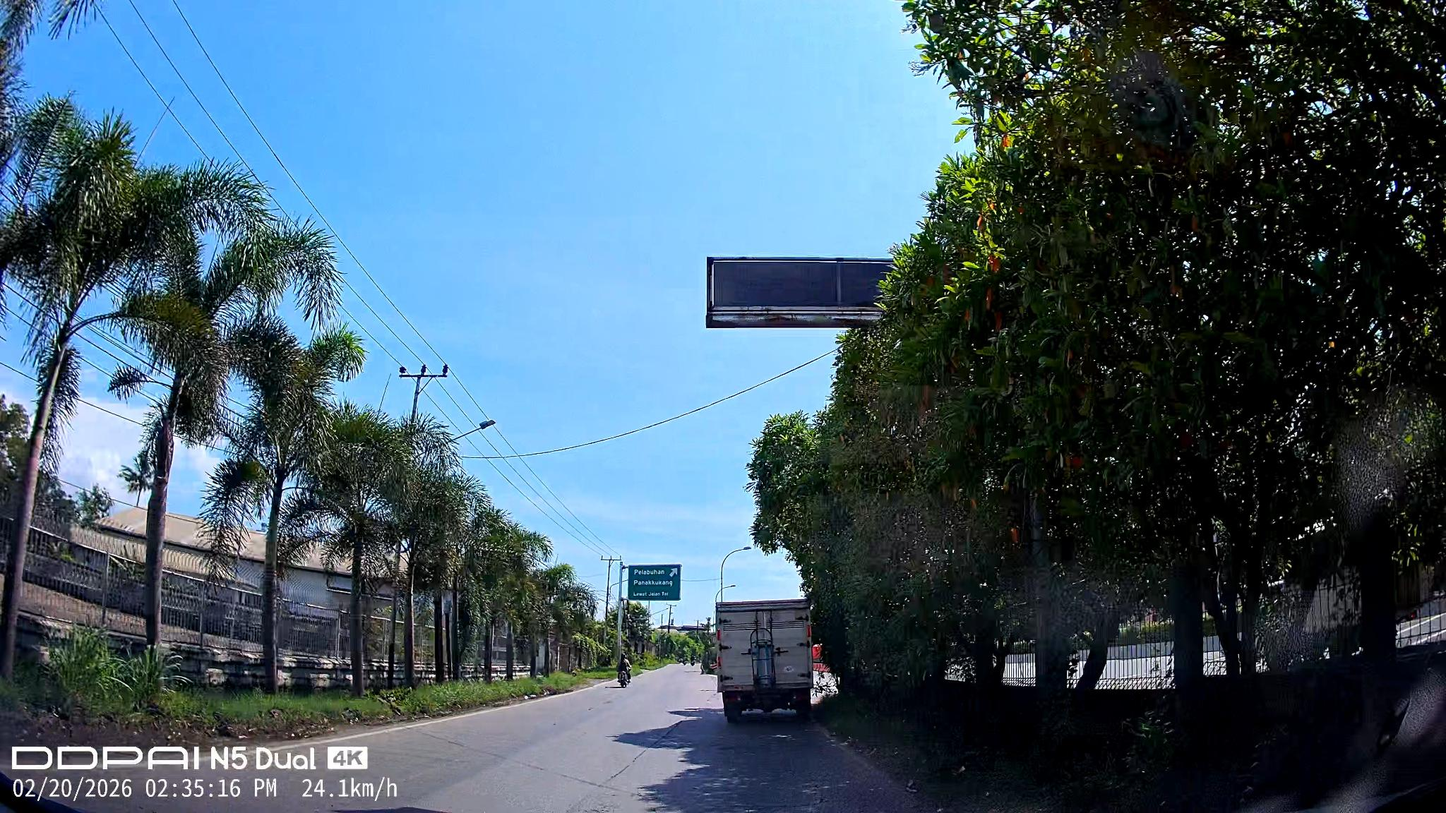rambu_teks: (627, 564, 683, 601)
